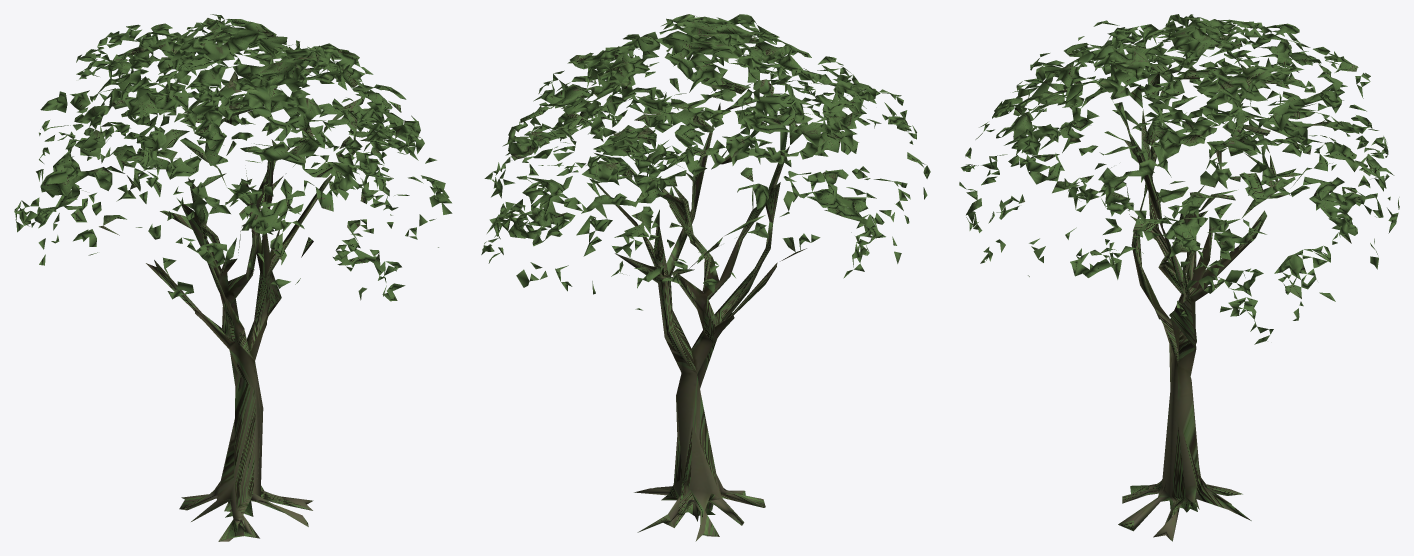
Rendered from tree-banyan-lod.glb.
3 views of the same model, side by side, from view 1: azimuth 30°, elevation 25°; view 2: azimuth 150°, elevation 25°; view 3: azimuth 270°, elevation 25° (orthographic).
Visible parts, largest first — view 1: world; view 2: world; view 3: world.
Part boxes in pixels (<box>): world: <box>14,14,452,541</box>; world: <box>481,14,930,541</box>; world: <box>959,14,1399,541</box>.
Size of the model in its own units: 0.804 by 0.959 by 0.8085.
1 material, 1 textured.
